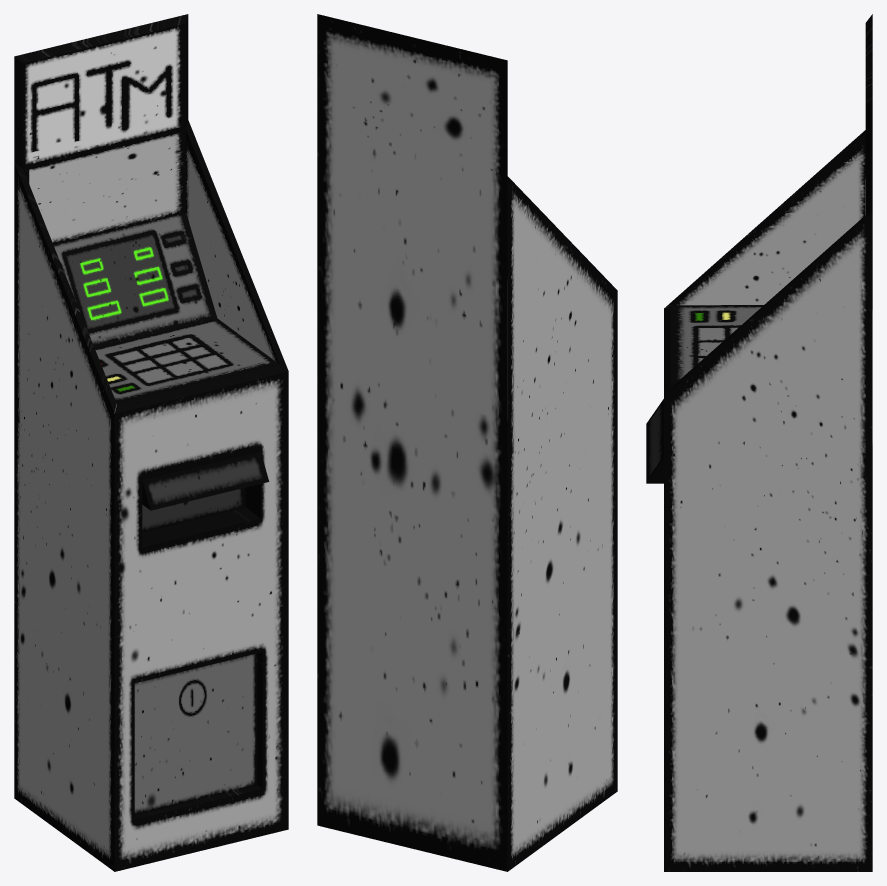
The model's file is ATM.obj.
3 views of the same model, side by side, from view 1: azimuth 30°, elevation 25°; view 2: azimuth 150°, elevation 25°; view 3: azimuth 270°, elevation 25° (orthographic). The views are drawn at different scales.
Parts seen in each view (by area): view 1: Cube; view 2: Cube; view 3: Cube.
Boxes of the visible parts, x1,y1,x2,y2 form: Cube: (14,14,288,871); Cube: (317,14,617,871); Cube: (646,14,872,871).
Bounding box in the file's own units: 2 × 8.15 × 2.17.
